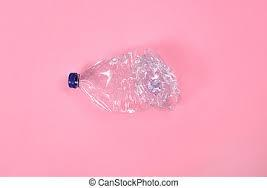plastic: (72, 54, 176, 112)
